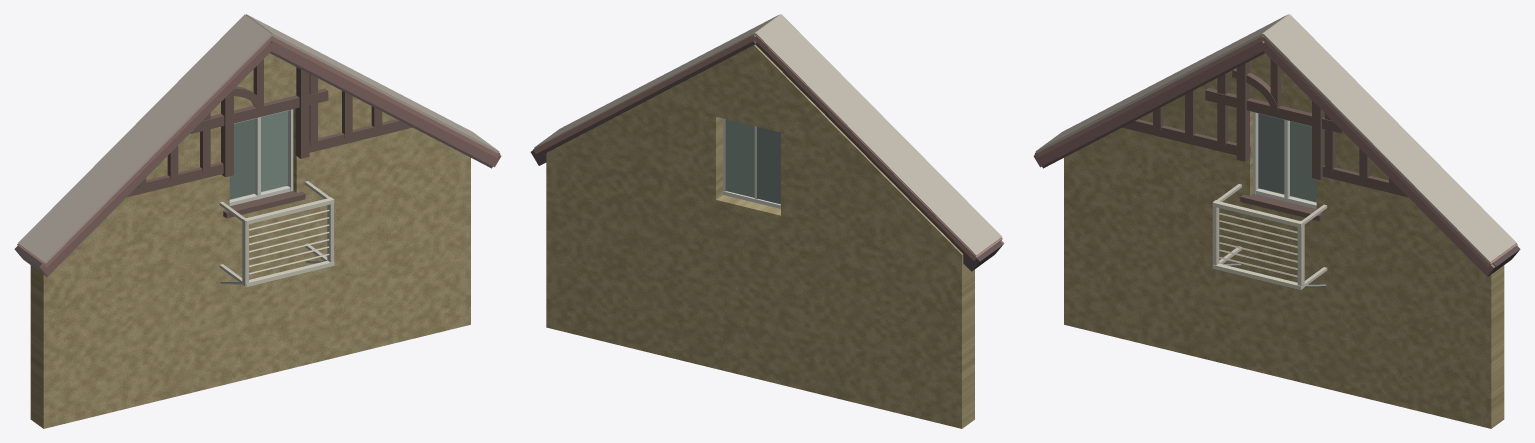
Rendered from fuxing-563-gable-timberwork-far.glb.
3 renders of one model, left to right at view 1: azimuth 30°, elevation 25°; view 2: azimuth 150°, elevation 25°; view 3: azimuth 330°, elevation 25°, orthographic. The views are drawn at different scales.
Visible parts, largest first — view 1: 复兴中路563号住宅山墙木格与悬挑百叶罩; view 2: 复兴中路563号住宅山墙木格与悬挑百叶罩; view 3: 复兴中路563号住宅山墙木格与悬挑百叶罩.
Boxes of the visible parts, x1=… form: 复兴中路563号住宅山墙木格与悬挑百叶罩: x1=14, y1=14, x2=501, y2=428; 复兴中路563号住宅山墙木格与悬挑百叶罩: x1=530, y1=14, x2=1004, y2=428; 复兴中路563号住宅山墙木格与悬挑百叶罩: x1=1033, y1=14, x2=1520, y2=428.
Bounding box in the file's own units: 6.4 × 4.68 × 0.958.
Materials: 12 (1 with a texture image).
